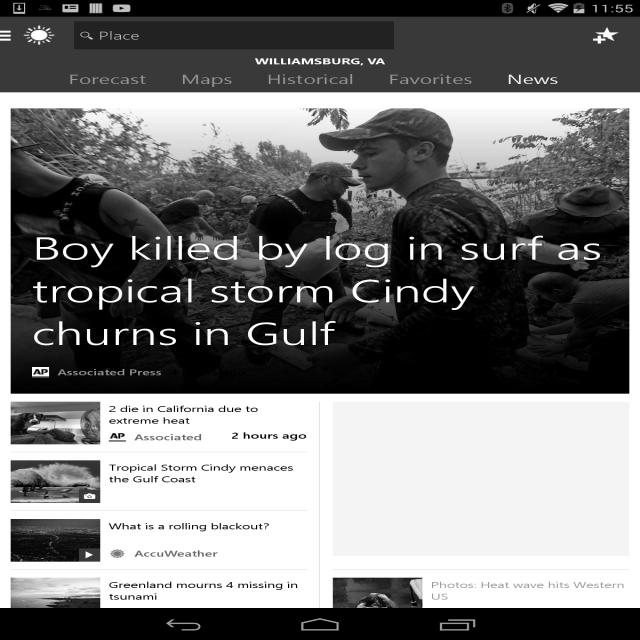EditText: (74, 22, 394, 49)
ImageView: (11, 108, 629, 394), (333, 402, 629, 556), (11, 460, 100, 503), (11, 519, 100, 562), (11, 402, 100, 444), (11, 578, 100, 620), (333, 578, 422, 620), (14, 19, 64, 52), (32, 364, 58, 380), (109, 428, 134, 444), (109, 546, 134, 562), (109, 604, 134, 620), (0, 30, 17, 41)
TextView: (32, 222, 608, 358), (0, 54, 640, 68), (109, 460, 307, 486), (109, 402, 307, 427), (109, 578, 307, 603), (431, 578, 629, 603), (256, 68, 378, 92), (378, 68, 496, 92), (58, 68, 170, 92), (571, 16, 640, 54), (109, 519, 269, 533), (170, 68, 256, 92), (496, 68, 582, 92), (134, 605, 247, 619), (58, 365, 170, 379), (134, 546, 227, 561), (134, 430, 232, 443), (232, 428, 307, 443), (170, 365, 247, 379), (83, 492, 96, 500), (85, 551, 94, 559)
